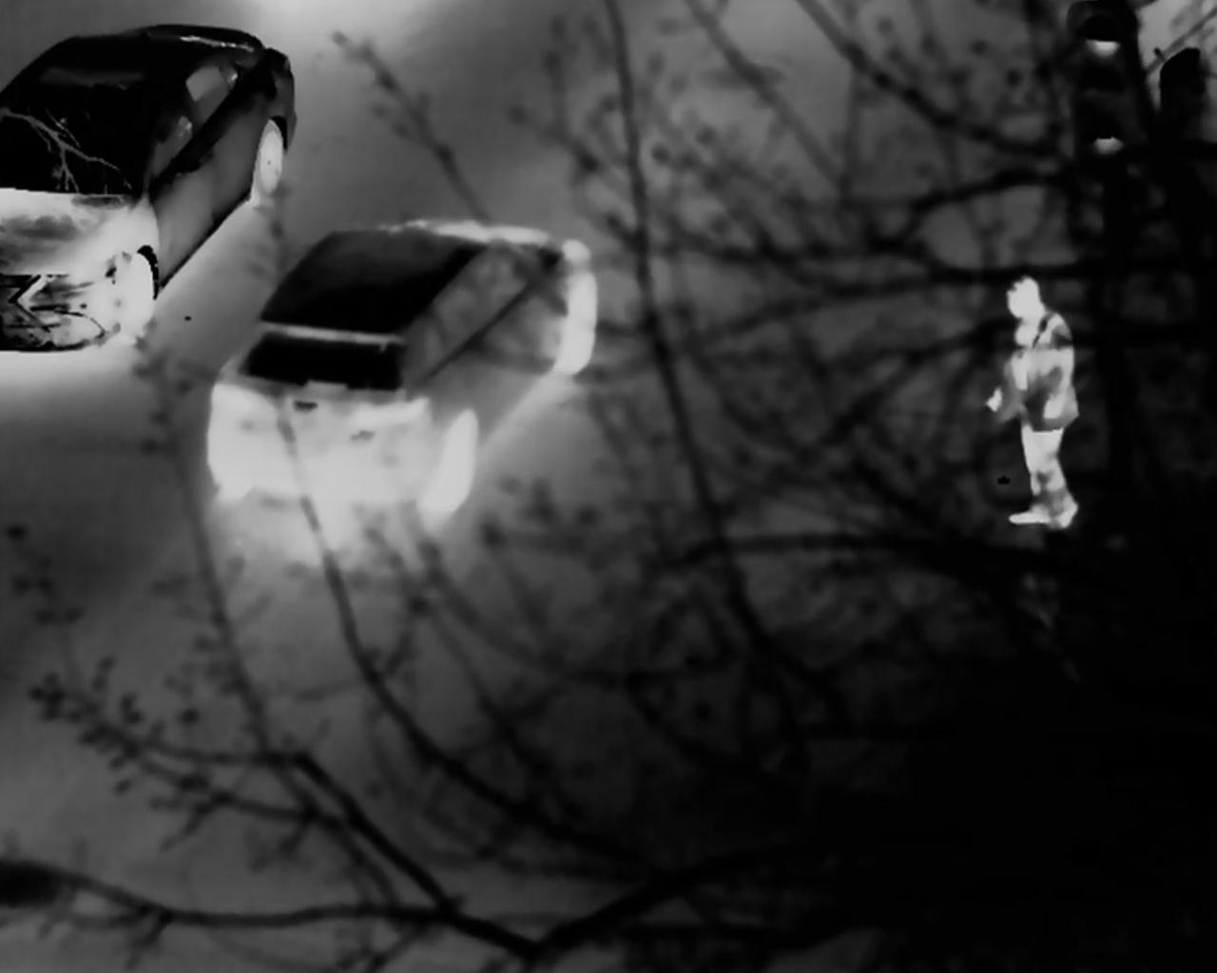person: (997, 269, 1086, 523)
